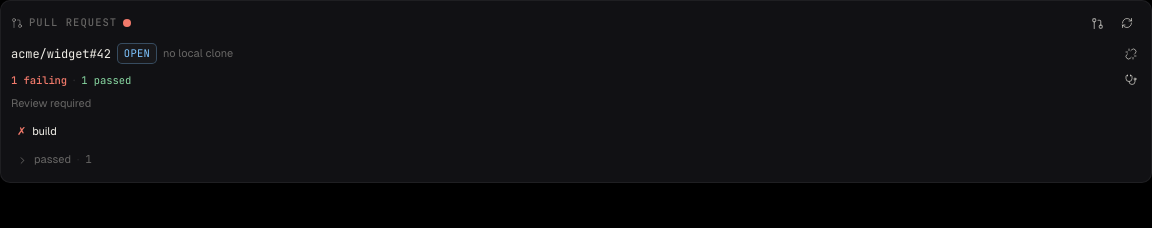
Test case: PrCompanionSection › renders every same-named check as its own row — real PRs repeat check names
The width and height of the screenshot is (1152, 228).
Expected: the number of links "build" is 1, 32,124 -> 57,140
Click the button "passed · 1": [52, 159] box 11,146 -> 1141,174
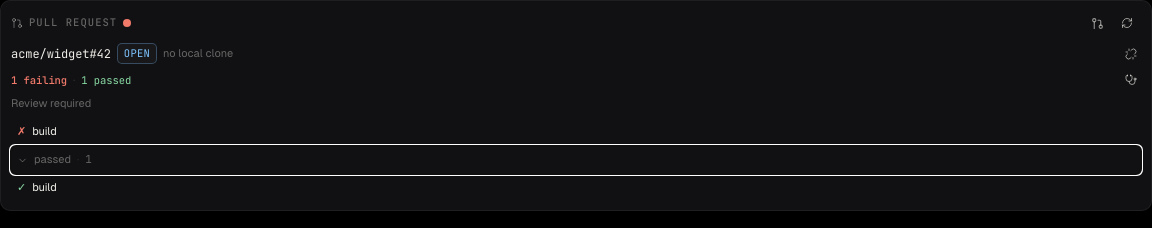
Expected: the number of links "build" is 2, 32,124 -> 57,140; 32,180 -> 57,196
